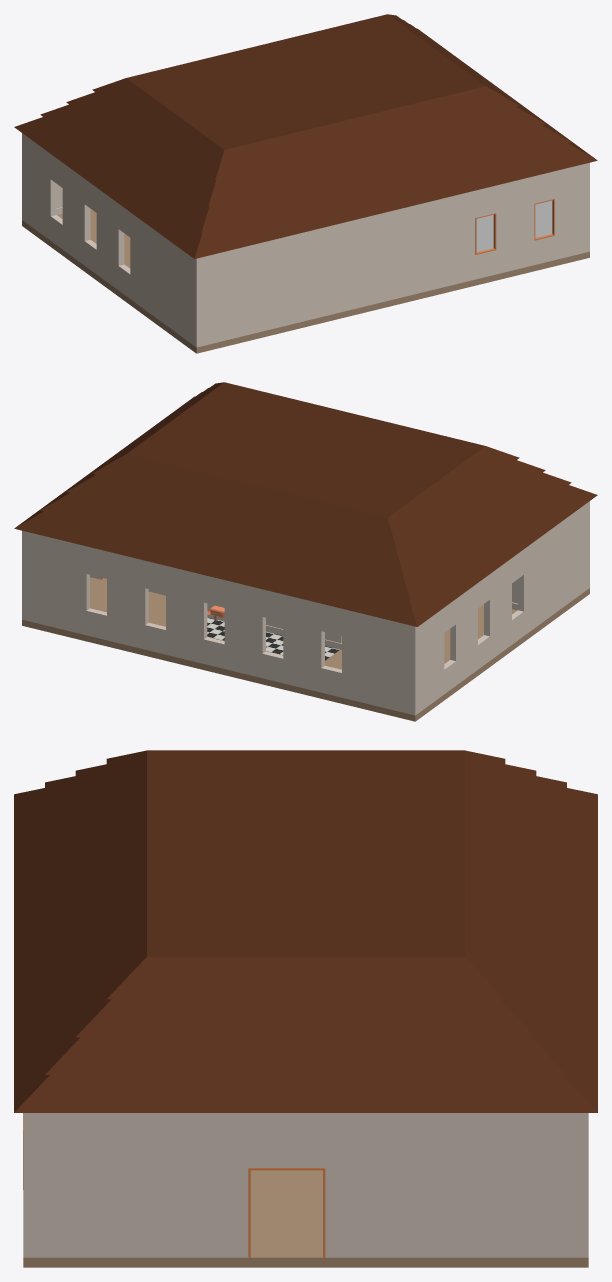
Rendered from Kitchen.fbx.
3 views of the same model, one above another, from view 1: azimuth 30°, elevation 25°; view 2: azimuth 150°, elevation 25°; view 3: azimuth 270°, elevation 25° (orthographic). The views are drawn at different scales.
Parts seen in each view (by area): view 1: Roof, Walls Backup, Walls.001, Floor.001, MarcoVentana.002, MarcoVentana.001; view 2: Roof, Walls Backup, Walls.001, Floor.001; view 3: Roof, Walls Backup, Walls.001, Floor.001, Marco Puerta 3.001.
Boxes of the visible parts, <box> form: Roof: <box>14,14,597,258</box>; Walls Backup: <box>22,133,589,347</box>; Walls.001: <box>22,164,585,346</box>; Floor.001: <box>22,209,589,353</box>; MarcoVentana.002: <box>475,213,496,254</box>; MarcoVentana.001: <box>534,199,554,240</box>; Roof: <box>14,382,597,626</box>; Walls Backup: <box>22,501,589,715</box>; Walls.001: <box>22,501,589,714</box>; Floor.001: <box>22,577,589,721</box>; Roof: <box>14,750,597,1112</box>; Walls Backup: <box>23,1113,588,1257</box>; Walls.001: <box>23,1113,588,1257</box>; Floor.001: <box>23,1170,588,1267</box>; Marco Puerta 3.001: <box>248,1168,325,1257</box>.
Size of the model in its own units: 1375 by 1065 by 520.
10 materials, 1 textured.
